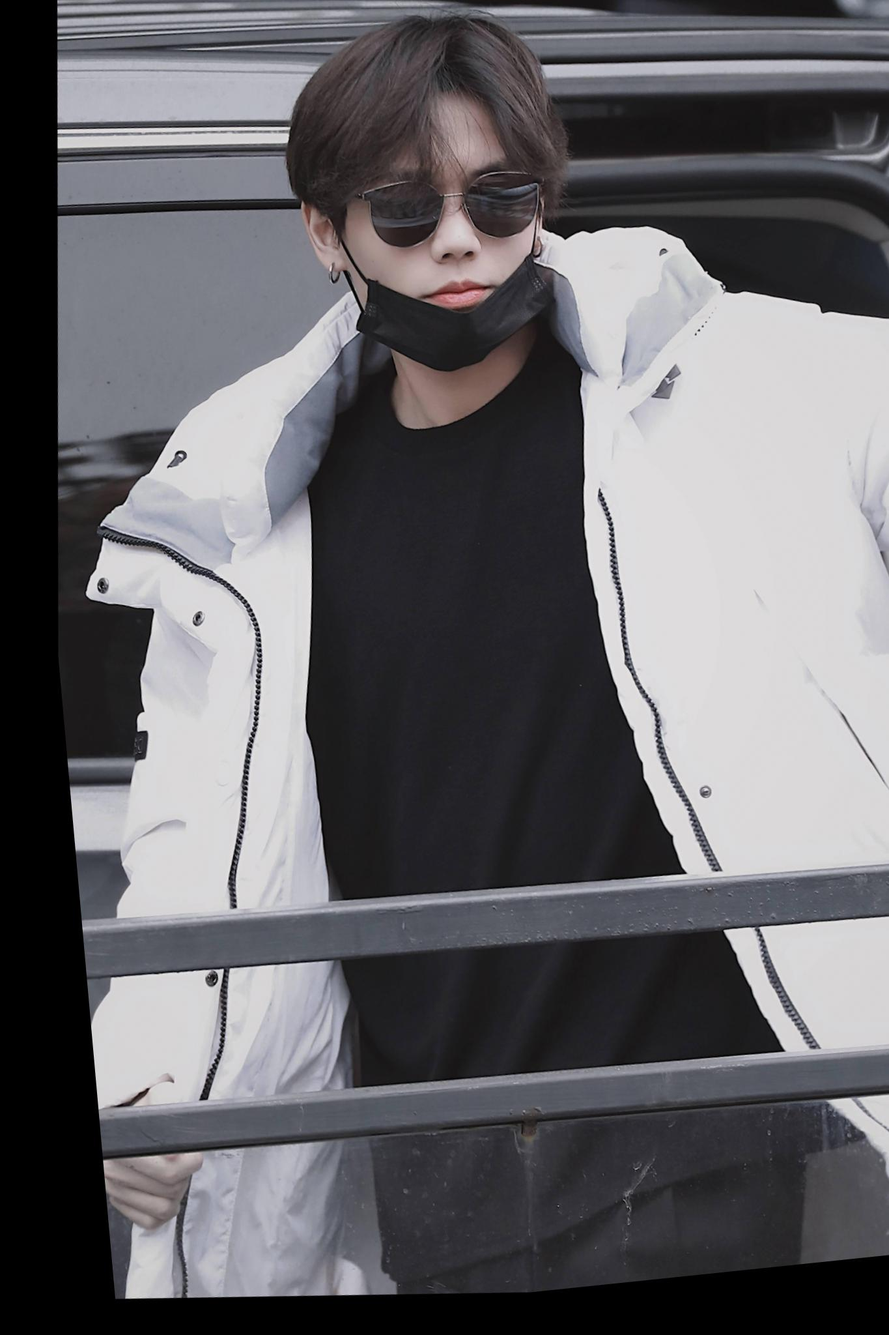WRONG: (332, 119, 550, 379)
